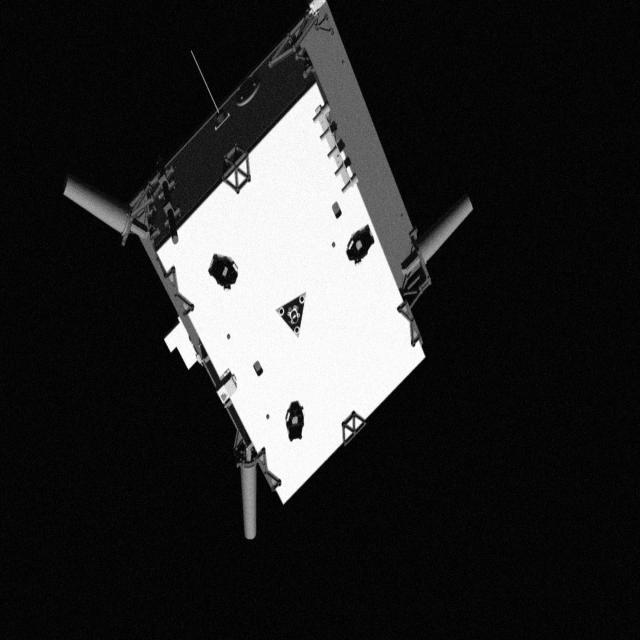medium_debris: (62, 0, 480, 540)
